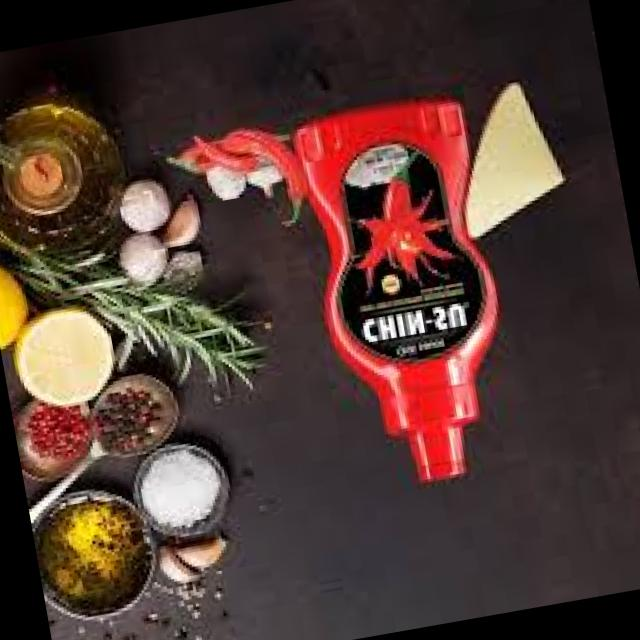tuong ot chinsu: (289, 90, 532, 499)
